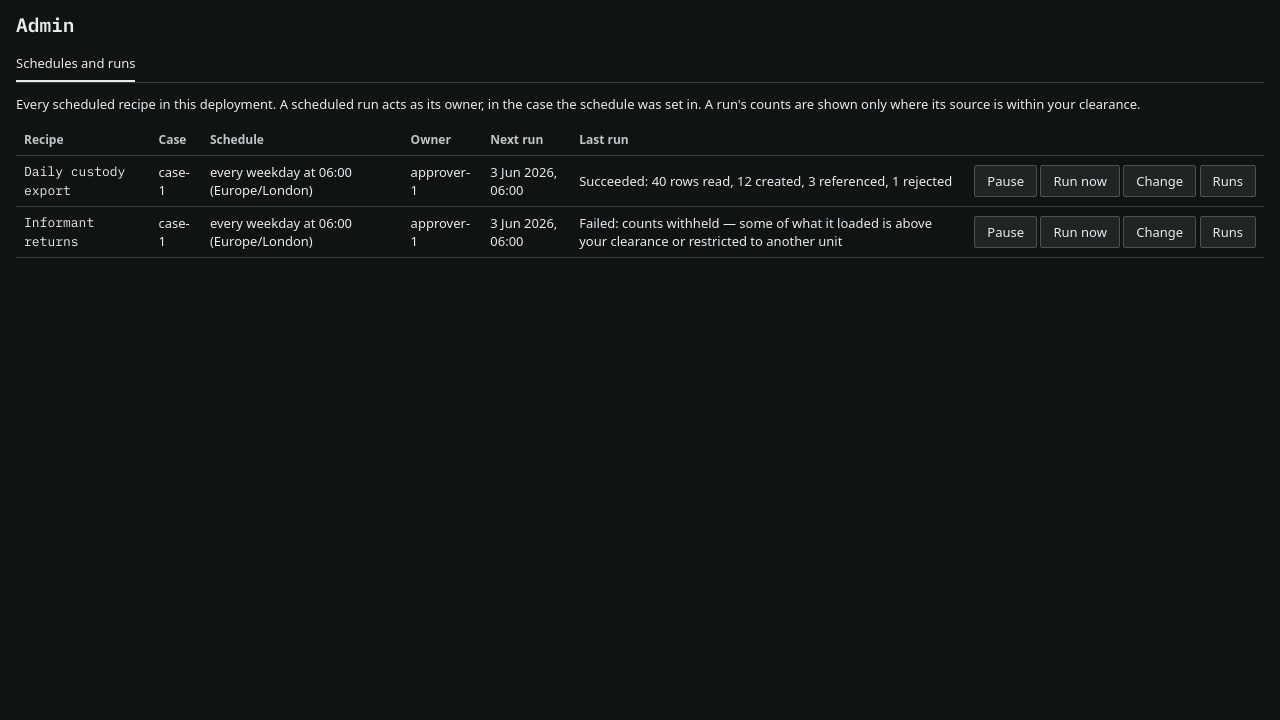
Schedules and runs › changes a schedule's time, keeping its owner
The width and height of the screenshot is (1280, 720).
Click the button with aria-label "Change schedule of Daily custody export" at coordinates (1160, 181), box [1123,165,1196,197]
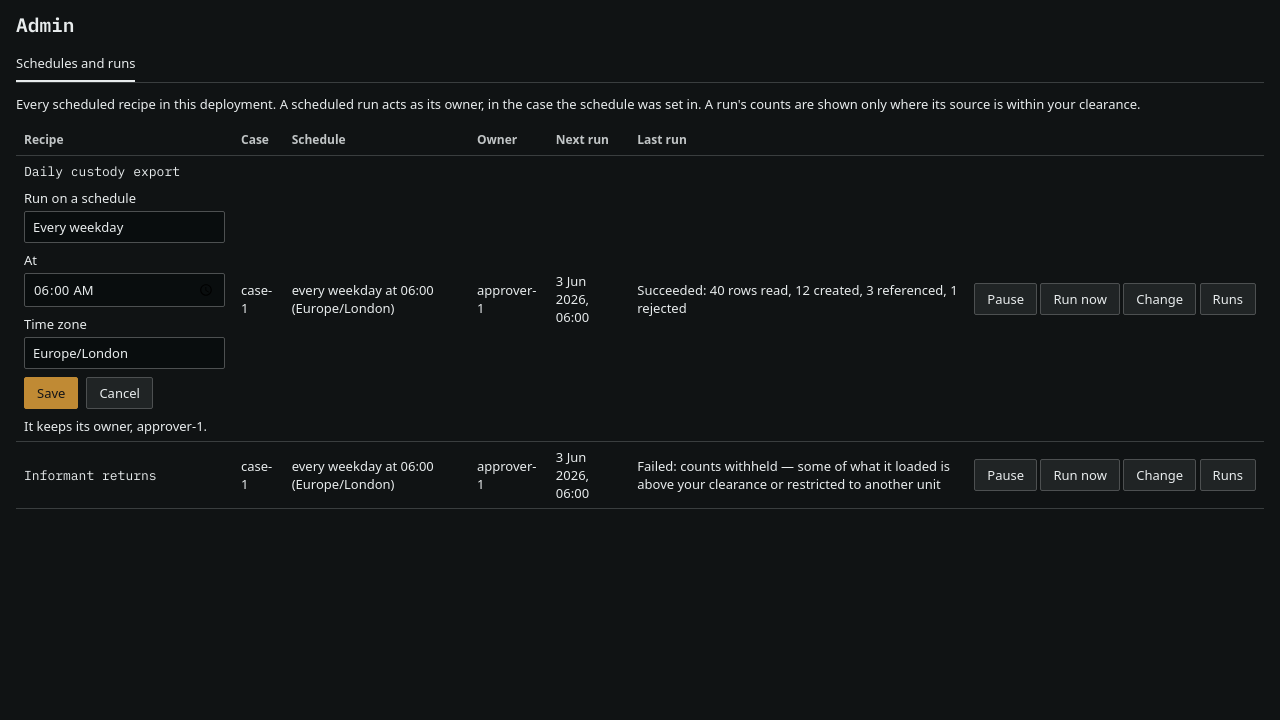
Select "Every weekday" in the dropdown named "How often" at coordinates (124, 227), box [24,211,225,243]
Replace the text in the time field named "Time" with "07:30" at coordinates (124, 290), box [24,273,225,307]
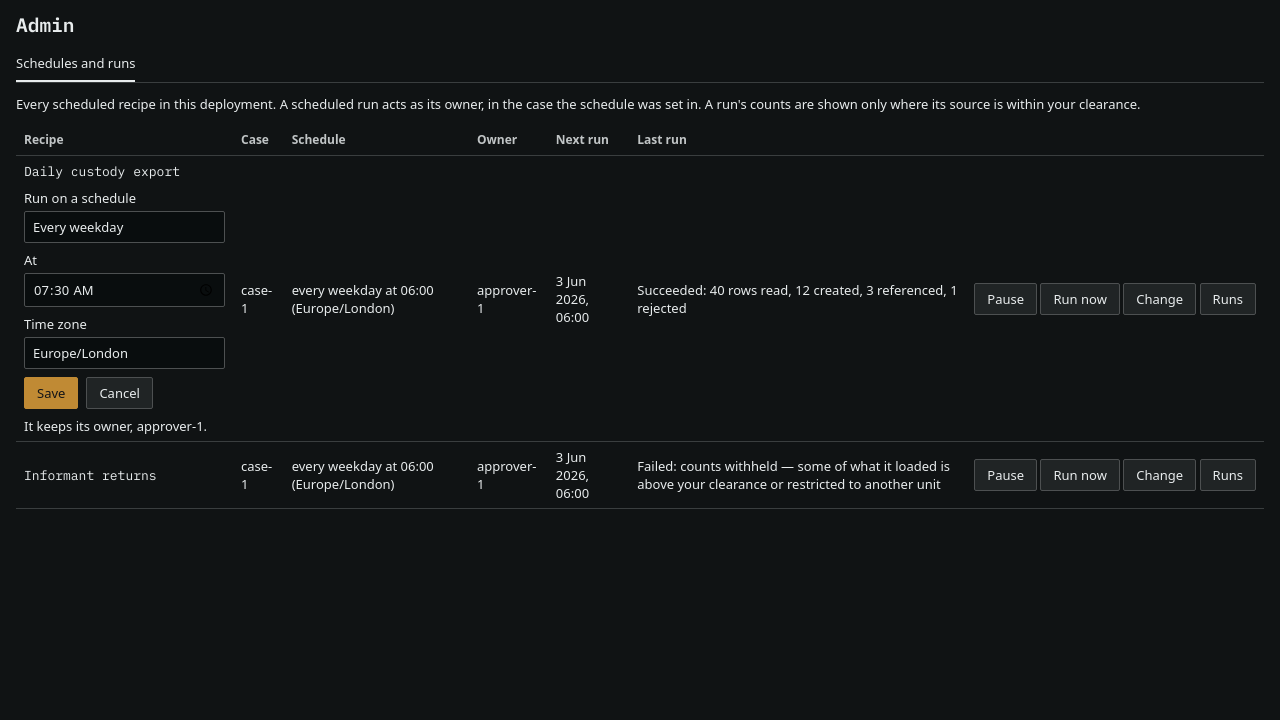
Click the button with aria-label "Save schedule of Daily custody export" at coordinates (51, 393), box [24,377,78,409]
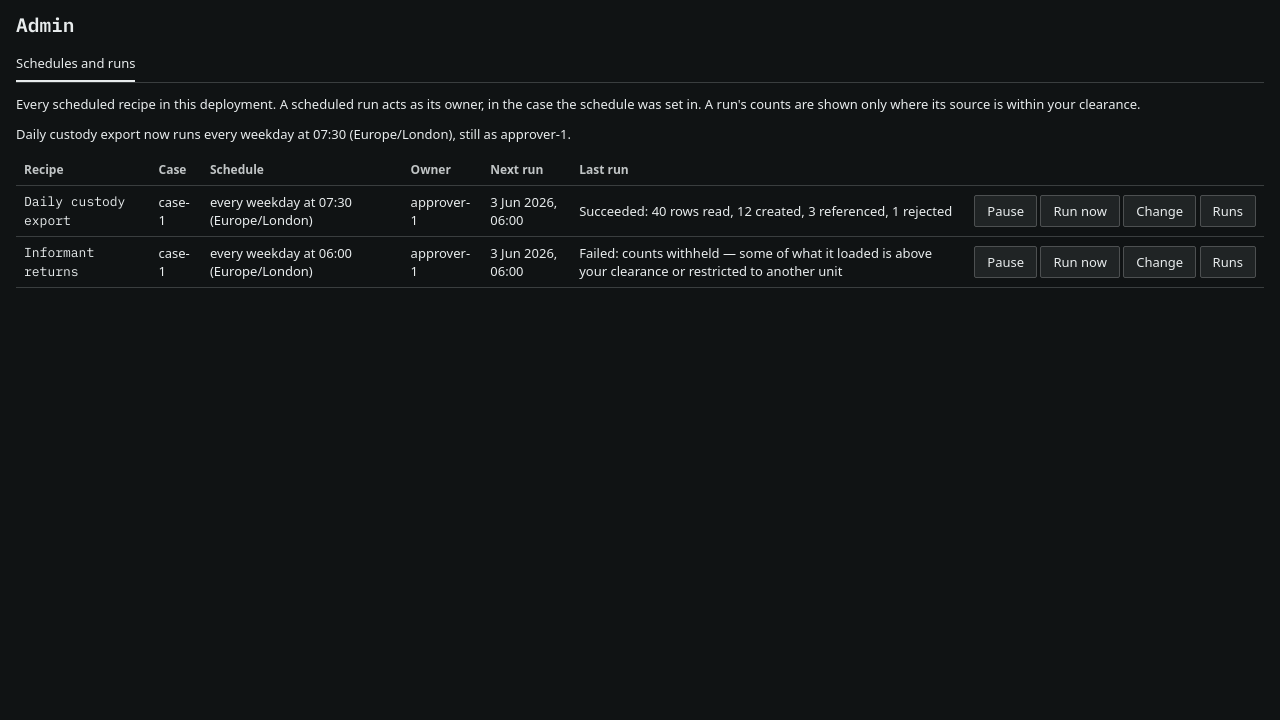
expect the text "every weekday at 07:30 (Europe/London)" is shown: met, box [202,186,403,236]
